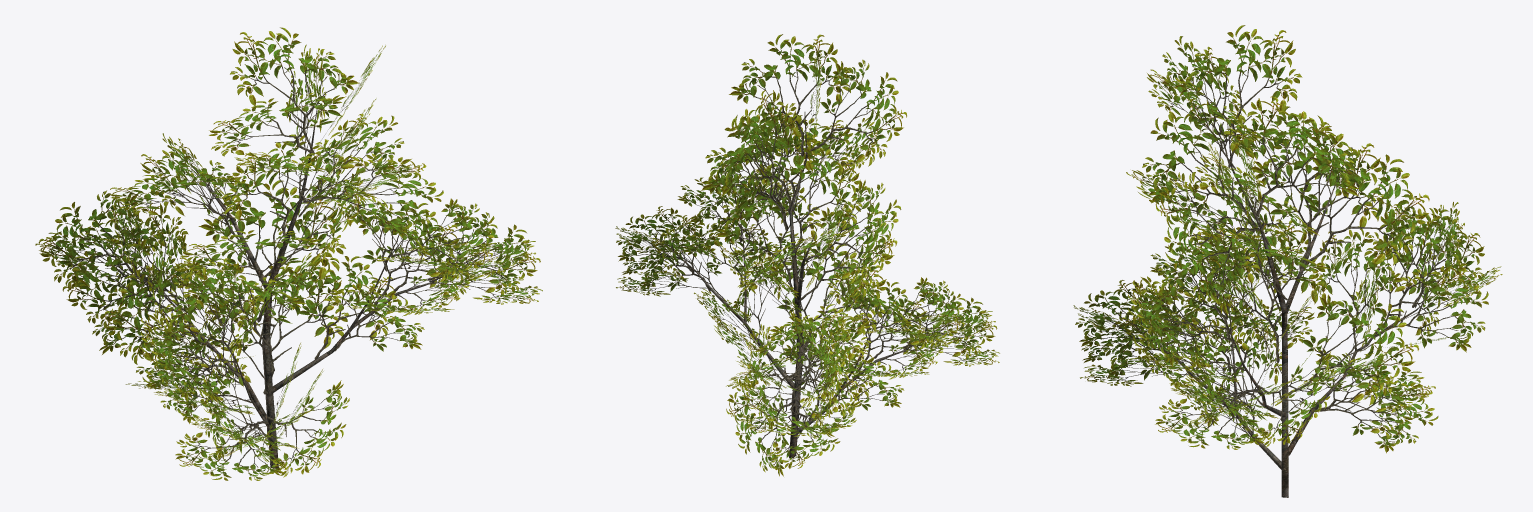
The model's file is MainCity_GuanMu_01.fbx.
3 views of the same model, side by side, from view 1: azimuth 30°, elevation 25°; view 2: azimuth 150°, elevation 25°; view 3: azimuth 270°, elevation 25° (orthographic). The views are drawn at different scales.
Parts seen in each view (by area): view 1: MainCity_GuanMu_01; view 2: MainCity_GuanMu_01; view 3: MainCity_GuanMu_01.
Part boxes in pixels (x1=…): MainCity_GuanMu_01: x1=35, y1=27, x2=542, y2=480; MainCity_GuanMu_01: x1=615, y1=34, x2=999, y2=476; MainCity_GuanMu_01: x1=1073, y1=25, x2=1502, y2=497.
Size of the model in its own units: 398 by 414 by 371.
Materials: 1 (1 with a texture image).
